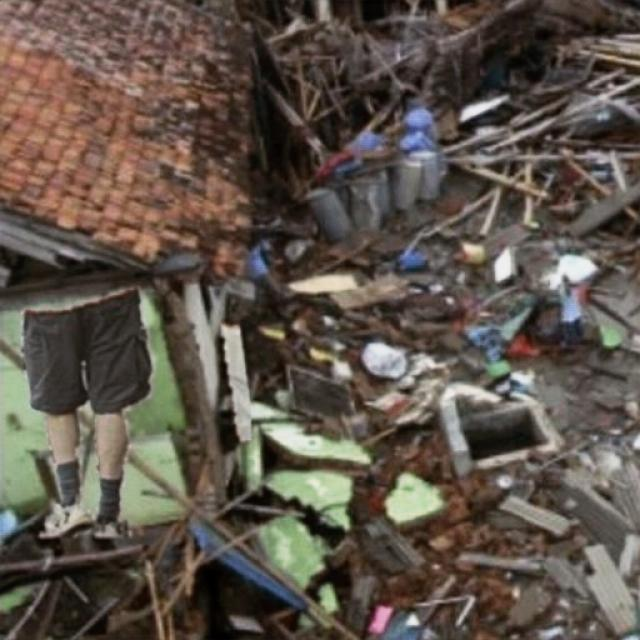Person in Rubble: (21, 288, 250, 536)
